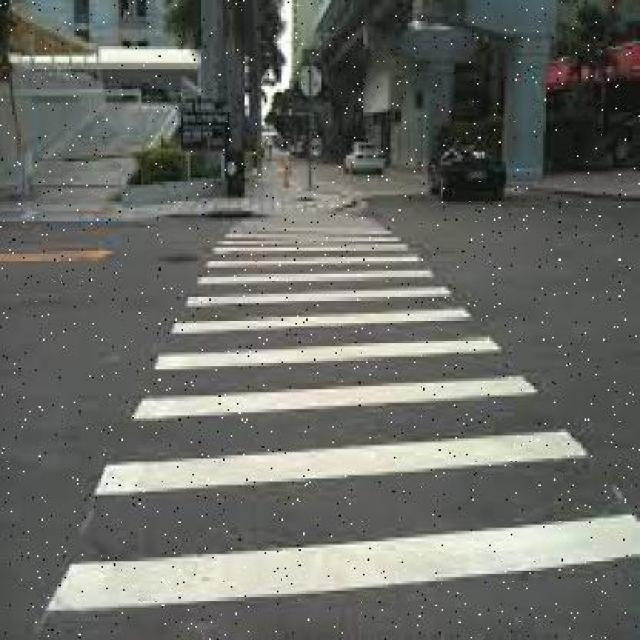crosswalk: (47, 214, 640, 612)
